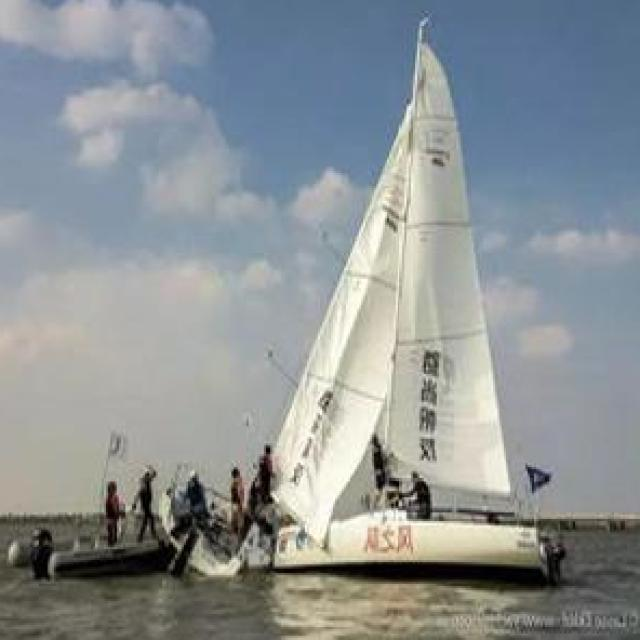sailboat: (204, 36, 562, 589)
